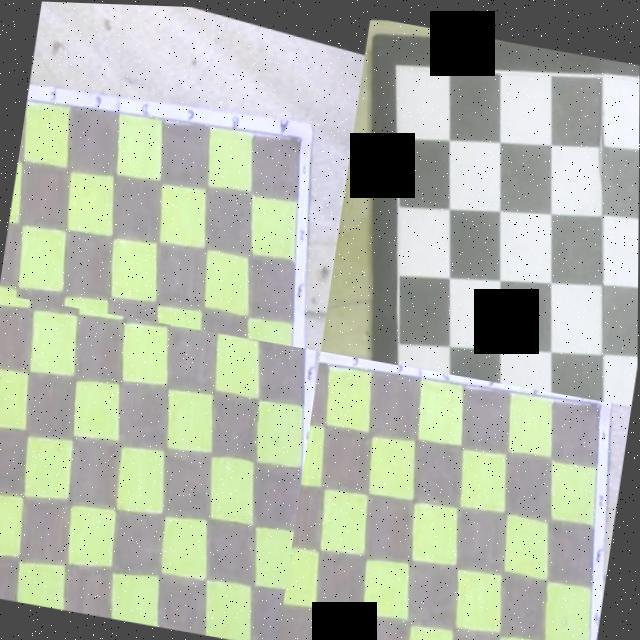chess-table-corners: (393, 56, 405, 70), (596, 396, 606, 402), (300, 125, 306, 132), (288, 344, 298, 348), (319, 358, 323, 367), (26, 98, 29, 106)
